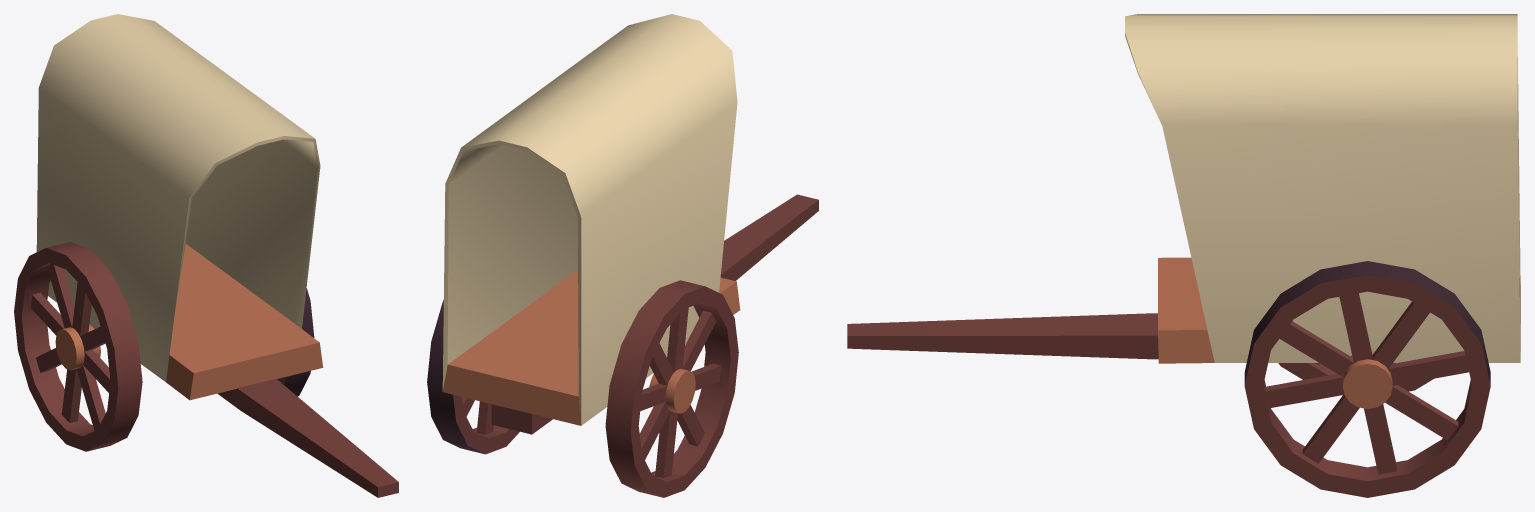
The model's file is jeronimoSanchez_CarretaMapeadaSmooth.fbx.
3 views of the same model, side by side, from view 1: azimuth 30°, elevation 25°; view 2: azimuth 150°, elevation 25°; view 3: azimuth 270°, elevation 25° (orthographic). The views are drawn at different scales.
Parts seen in each view (by area): view 1: Carreta; view 2: Carreta; view 3: Carreta.
Part boxes in pixels (left/top/right/bottom): Carreta: left=14, top=14, right=398, bottom=497; Carreta: left=427, top=14, right=818, bottom=497; Carreta: left=847, top=14, right=1520, bottom=497.
Size of the model in its own units: 178 by 308 by 449.
1 material, 1 textured.
